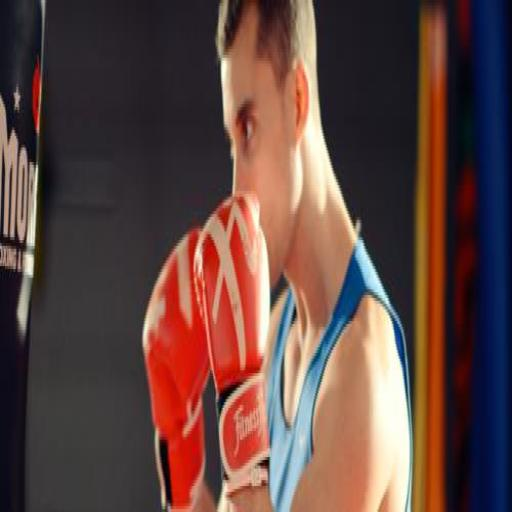boxing: (141, 0, 414, 509)
